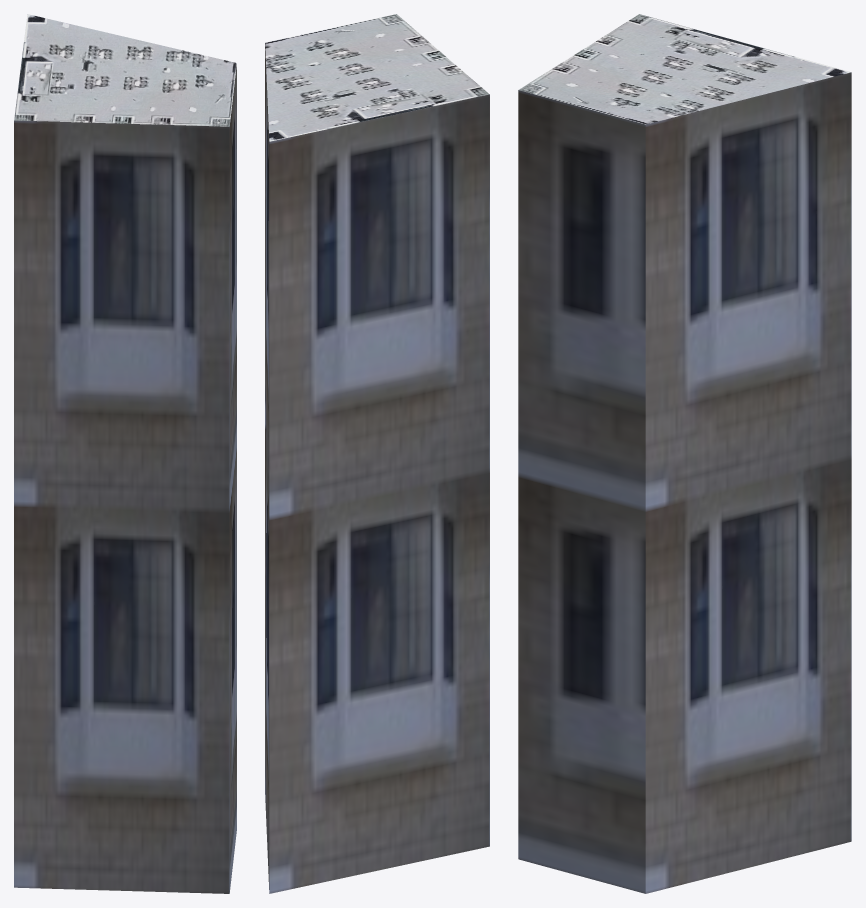
Rendered from ResTex__3617.fbx.
The picture shows the model from 3 angles, left to right: view 1: azimuth 30°, elevation 25°; view 2: azimuth 150°, elevation 25°; view 3: azimuth 270°, elevation 25°; orthographic projection. The views are drawn at different scales.
Parts seen in each view (by area): view 1: CityEngineMaterial_3_m, CityEngineMaterial_8_m; view 2: CityEngineMaterial_3_m, CityEngineMaterial_8_m; view 3: CityEngineMaterial_3_m, CityEngineMaterial_8_m.
Boxes of the visible parts, x1,y1,x2,y2 form: CityEngineMaterial_3_m: (14,64,236,893); CityEngineMaterial_8_m: (14,14,236,126); CityEngineMaterial_3_m: (265,43,489,893); CityEngineMaterial_8_m: (265,14,489,141); CityEngineMaterial_3_m: (518,72,851,893); CityEngineMaterial_8_m: (519,14,850,124).
Bounding box in the file's own units: 1.85 × 6 × 2.35.
Materials: 2 (2 with a texture image).
